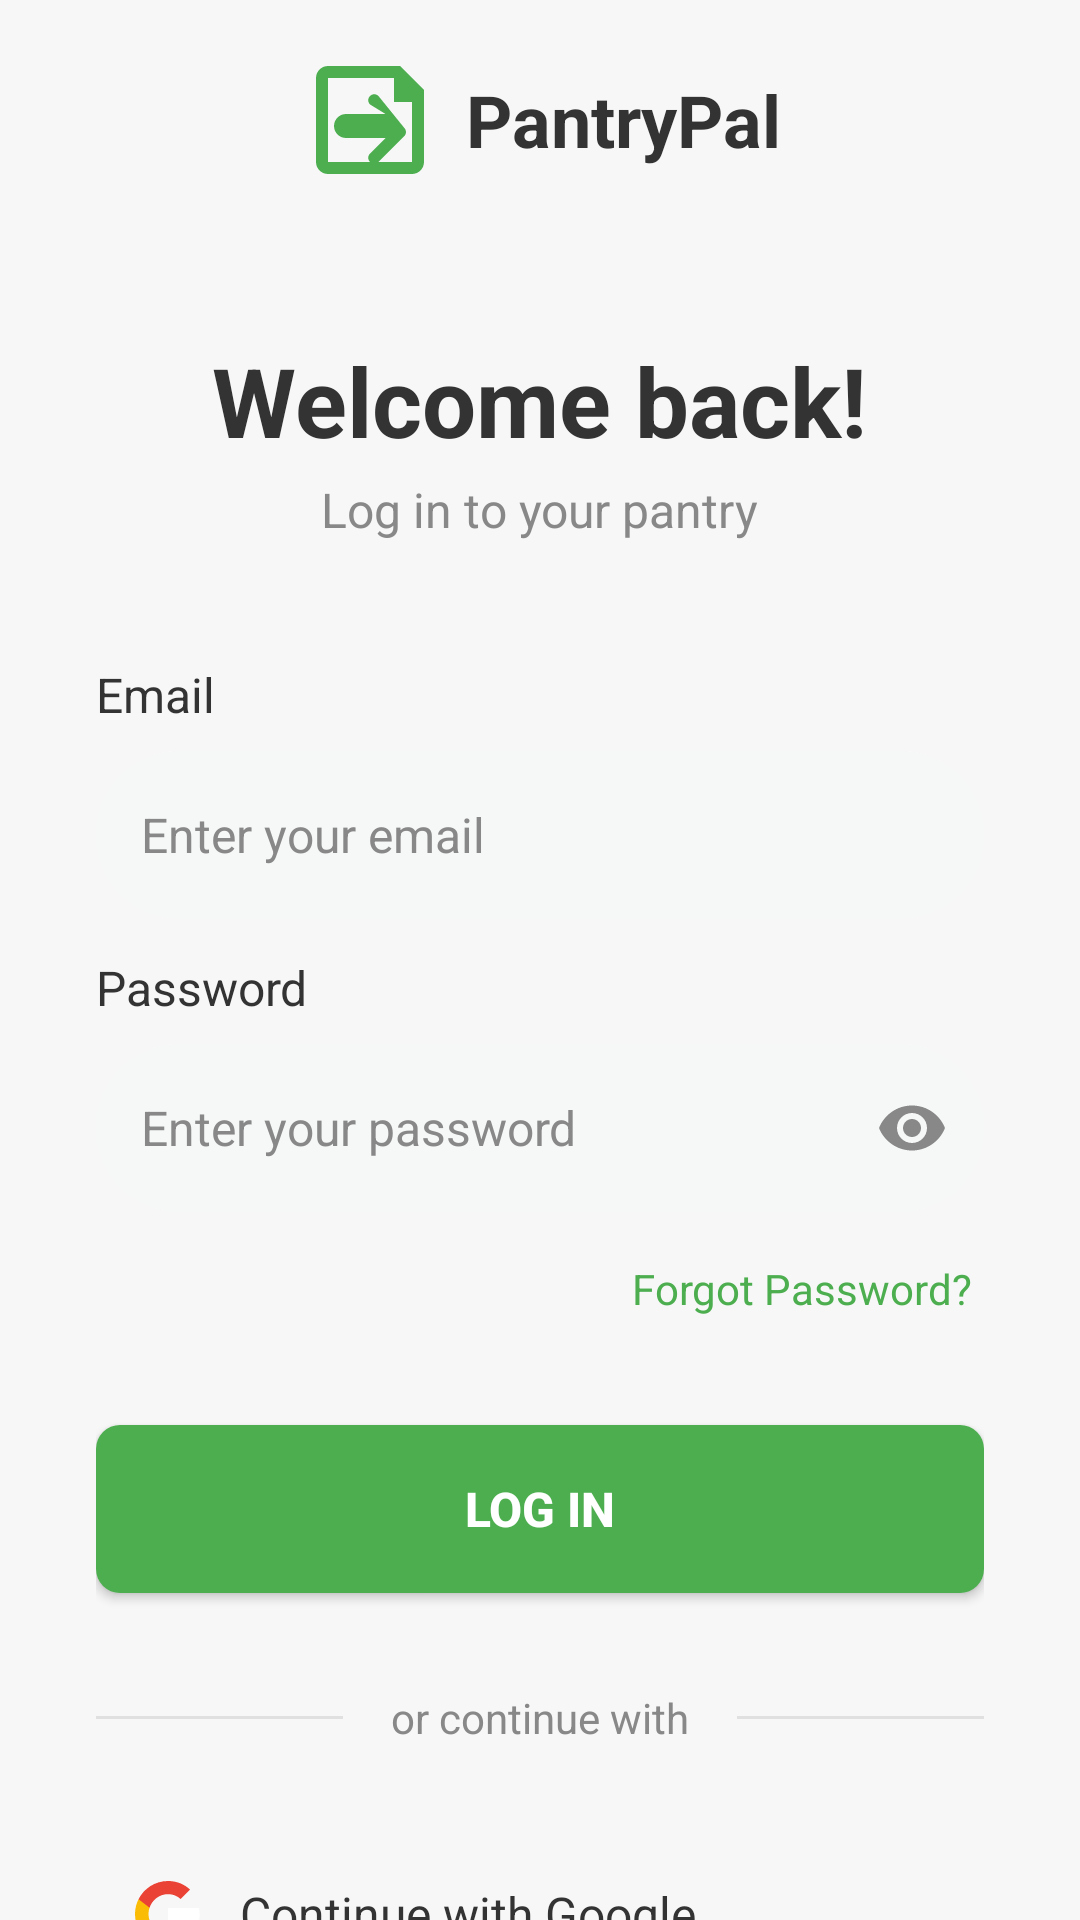

Icons on this 1080 × 1920 Android screen, each with its box as BBox(x1, y1, x2, y2):
Toggle password visibility: BBox(879, 1105, 945, 1151)
